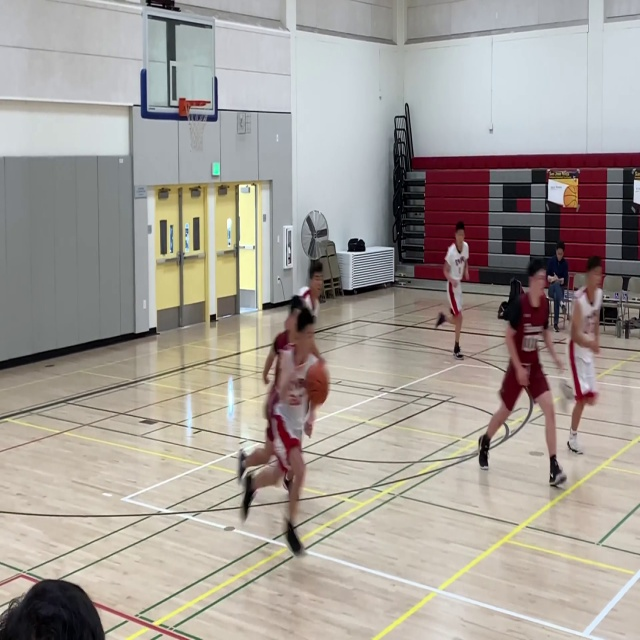Basketball: (304, 359, 330, 405)
